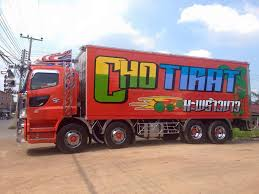truck: (17, 44, 252, 154)
